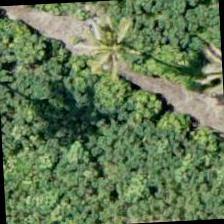Kelapa_Sawit: (59, 0, 154, 79)
